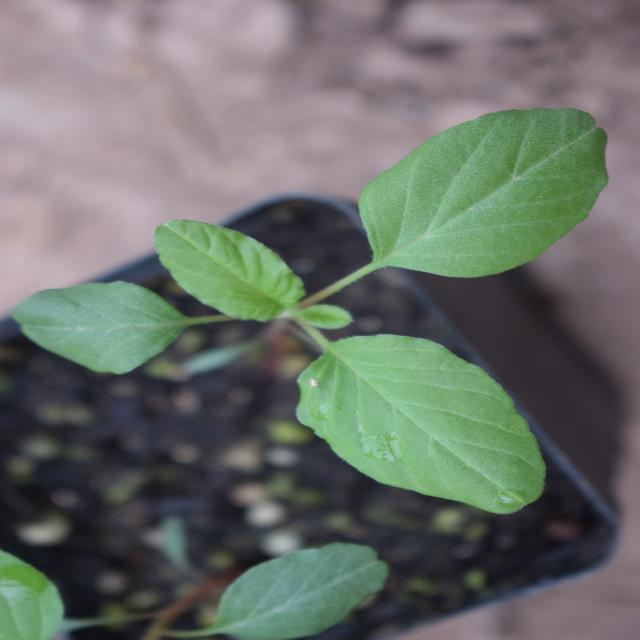pigweed: (128, 43, 538, 623)
